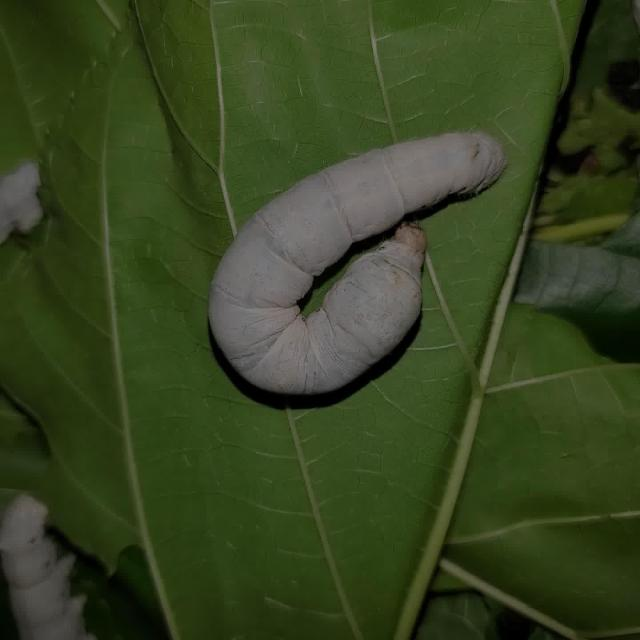Healthy: (197, 121, 518, 411)
